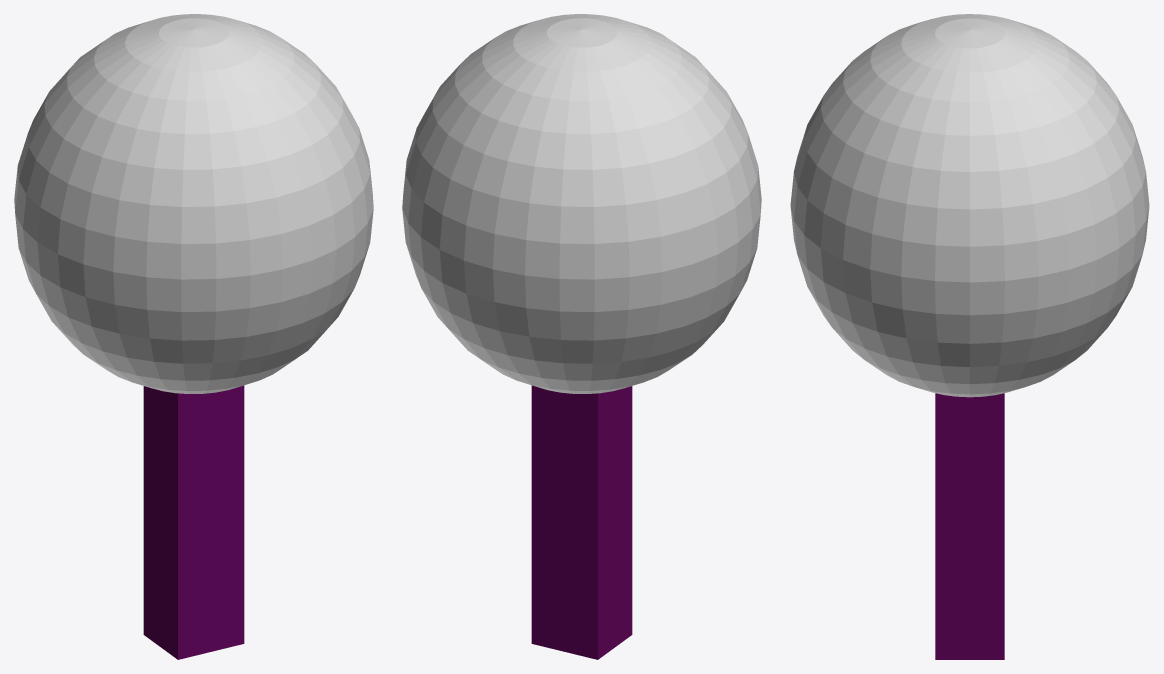
Rendered from device.fbx.
The picture shows the model from 3 angles, left to right: view 1: azimuth 30°, elevation 25°; view 2: azimuth 150°, elevation 25°; view 3: azimuth 270°, elevation 25°; orthographic projection.
Parts seen in each view (by area): view 1: Cube; view 2: Cube; view 3: Cube.
Part boxes in pixels (x1=…): Cube: x1=14, y1=14, x2=373, y2=659; Cube: x1=402, y1=14, x2=761, y2=659; Cube: x1=790, y1=14, x2=1149, y2=659.
Size of the model in its own units: 147 by 273 by 145.
